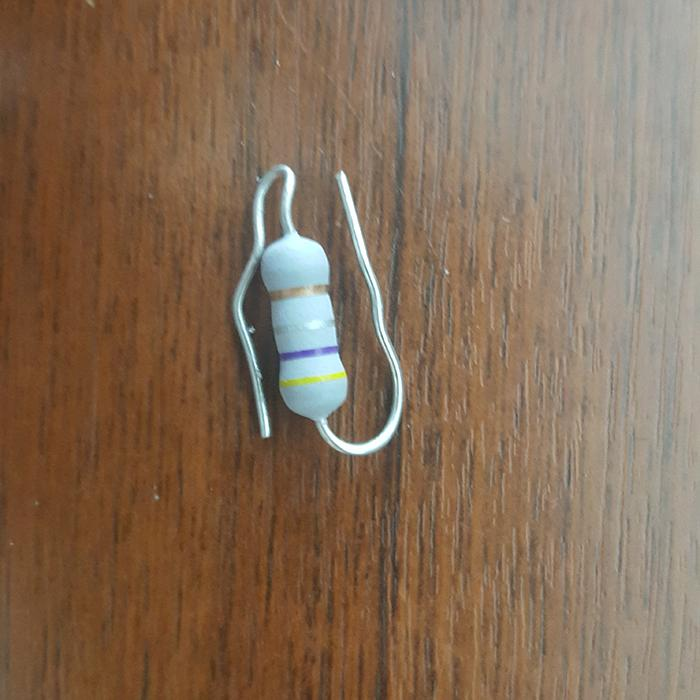resistor: (258, 229, 351, 422)
